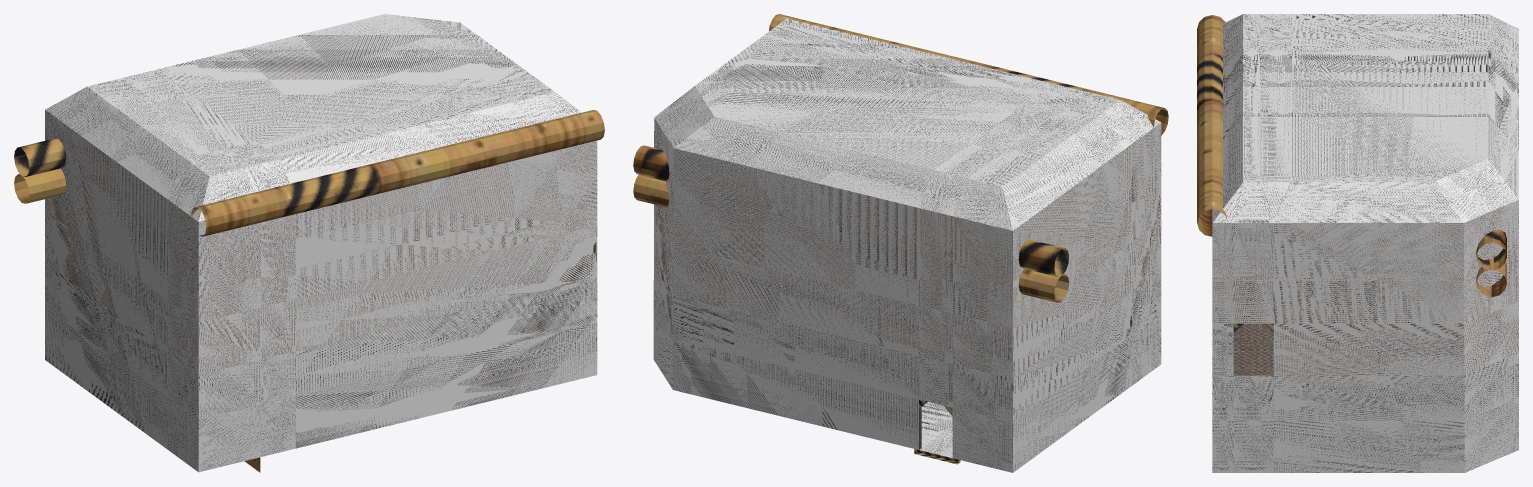
File: ElevationUpLeft.fbx
3 renders of one model, left to right at view 1: azimuth 30°, elevation 25°; view 2: azimuth 150°, elevation 25°; view 3: azimuth 270°, elevation 25°, orthographic. The views are drawn at different scales.
Parts seen in each view (by area): view 1: Bounds, Cube.001, Circle, Circle.001, Circle.002; view 2: Bounds, Cube.001, Circle.001, Circle.002, Circle; view 3: Bounds, Cube.001, Circle, Plane, Circle.001, Circle.002.
Part boxes in pixels (box(x1,y1,x2,y2)): Bounds: box(45, 14, 597, 472); Cube.001: box(45, 17, 597, 470); Circle: box(191, 110, 604, 236); Circle.001: box(14, 138, 66, 176); Circle.002: box(14, 168, 66, 203); Bounds: box(653, 18, 1161, 472); Cube.001: box(653, 19, 1161, 471); Circle.001: box(633, 145, 1069, 276); Circle.002: box(633, 174, 1069, 302); Circle: box(769, 14, 1168, 135); Bounds: box(1212, 14, 1518, 472); Cube.001: box(1212, 14, 1518, 472); Circle: box(1197, 15, 1227, 236); Plane: box(1233, 323, 1273, 375); Circle.001: box(1476, 229, 1506, 270); Circle.002: box(1476, 257, 1506, 297).
Size of the model in its own units: 3278 by 2113 by 2100.
Materials: 8 (7 with a texture image).
